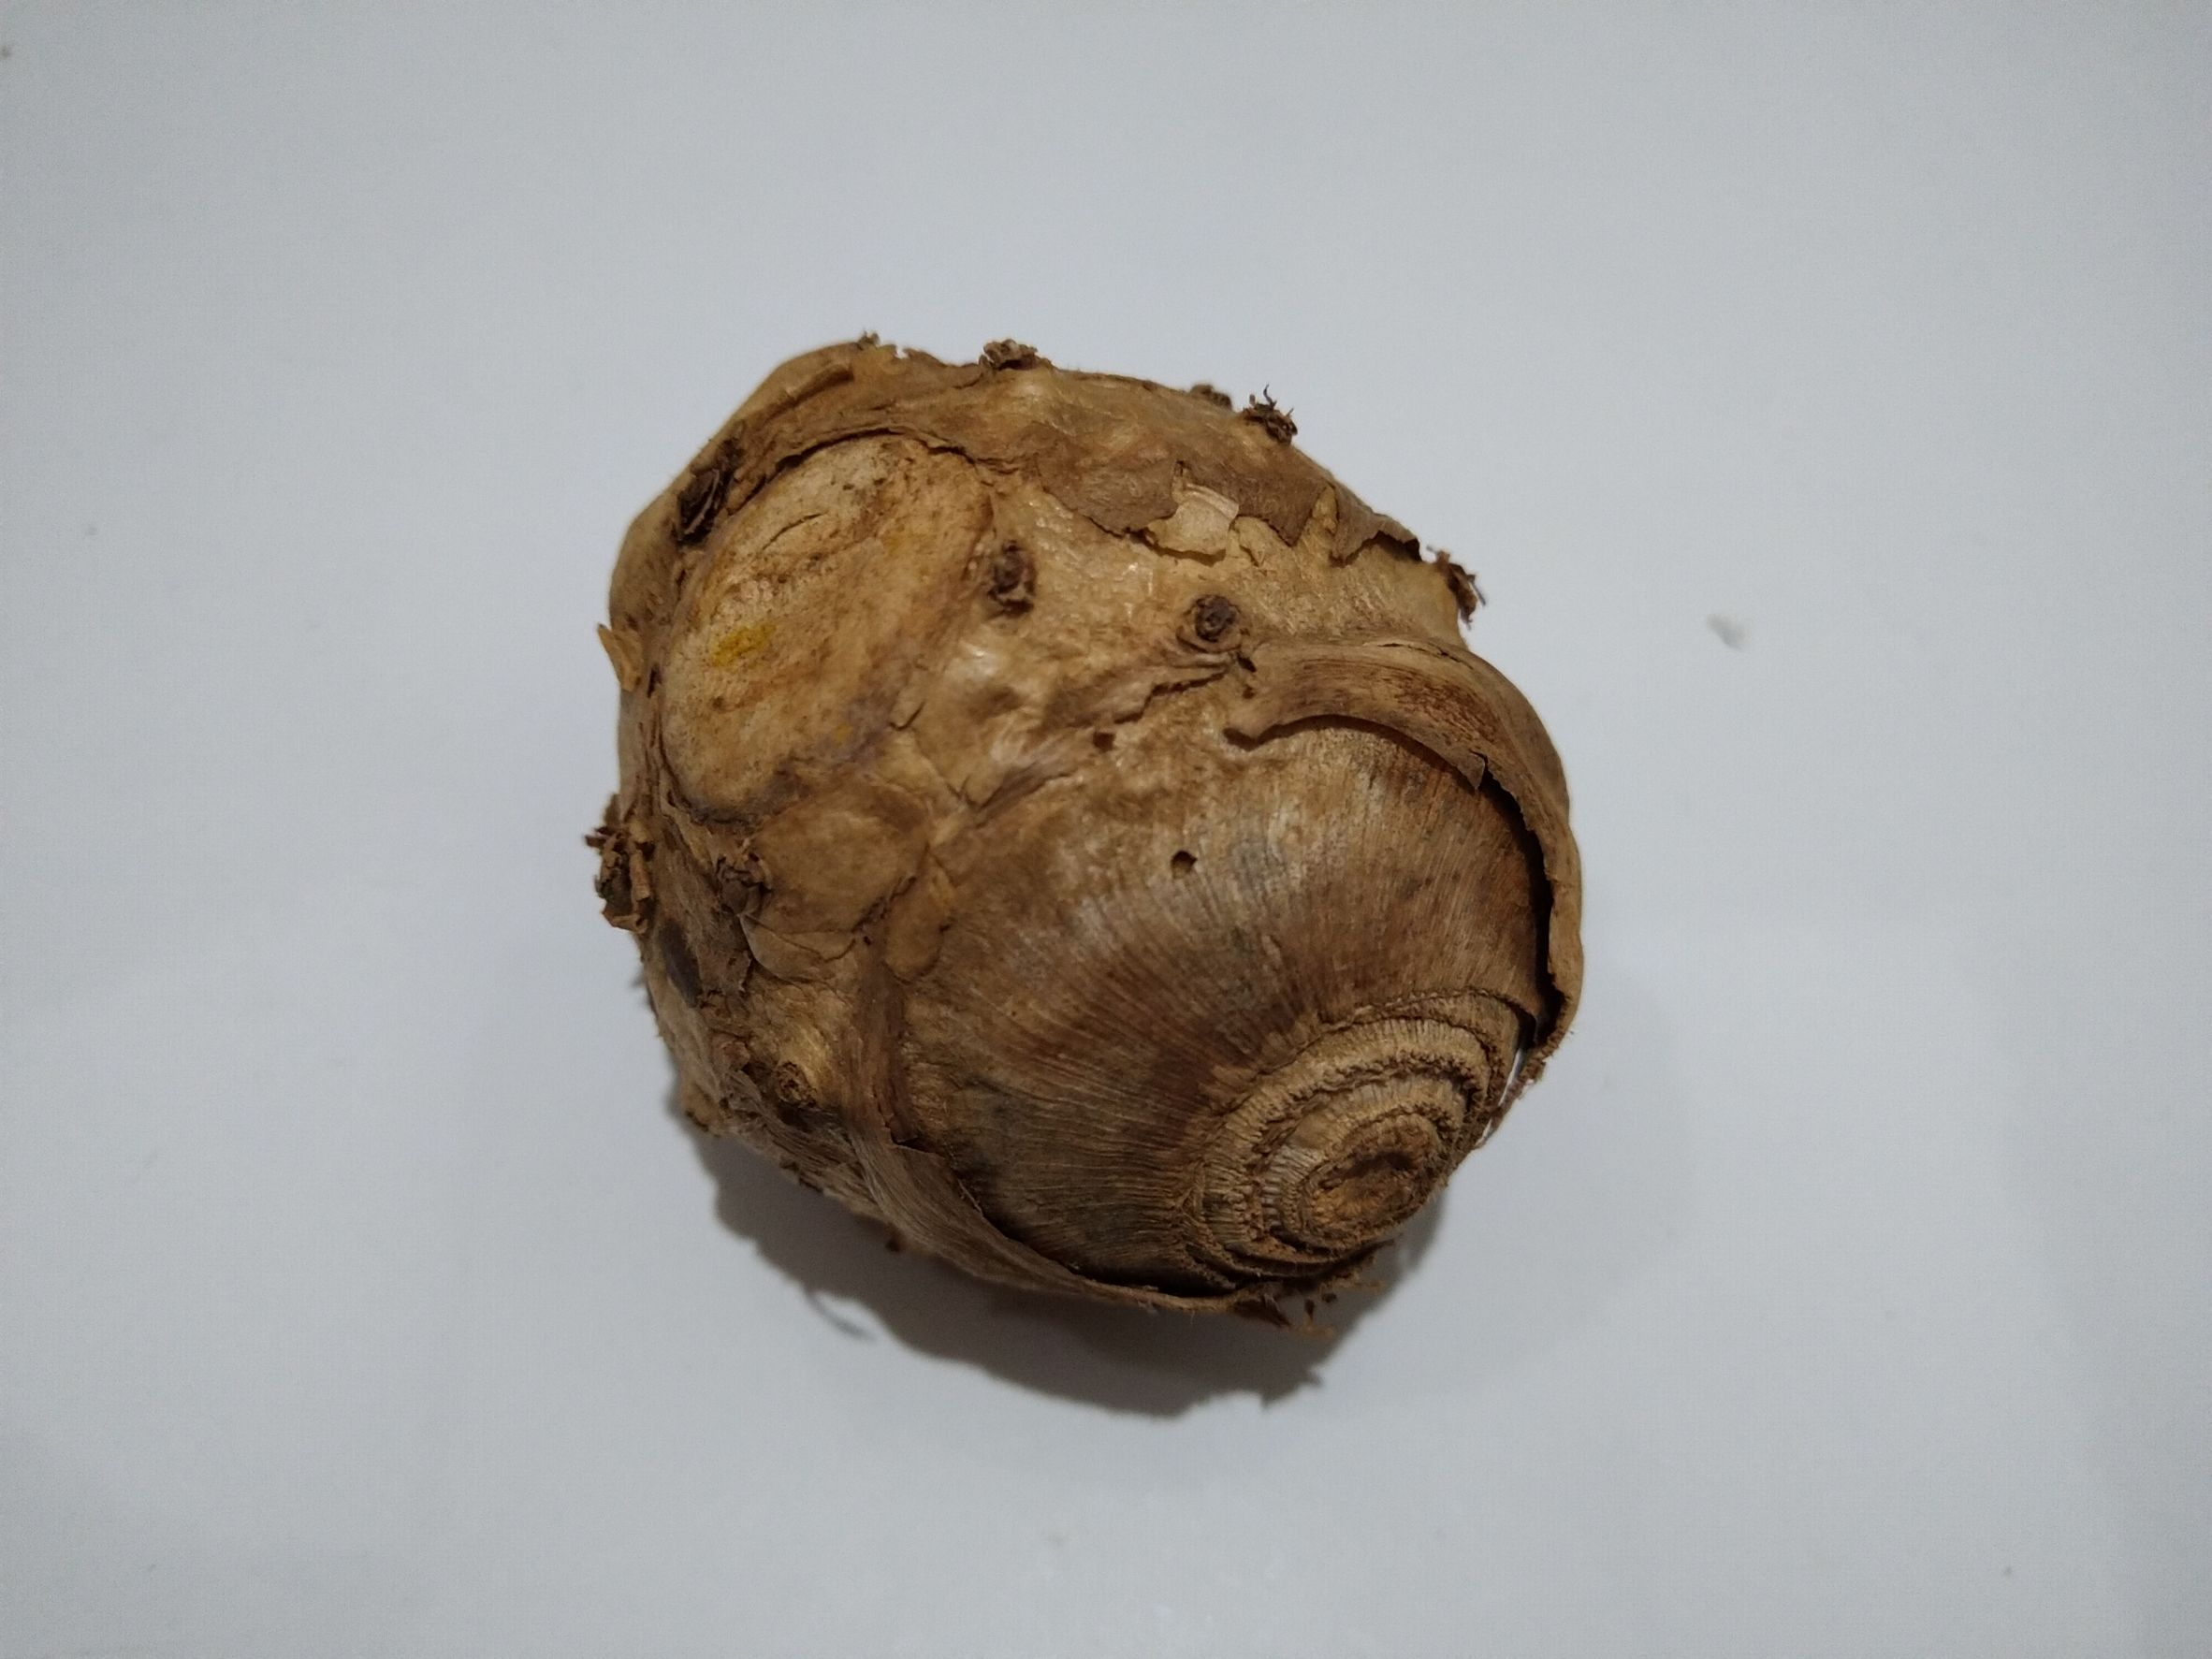Temulawak: (596, 349, 1561, 1375)
